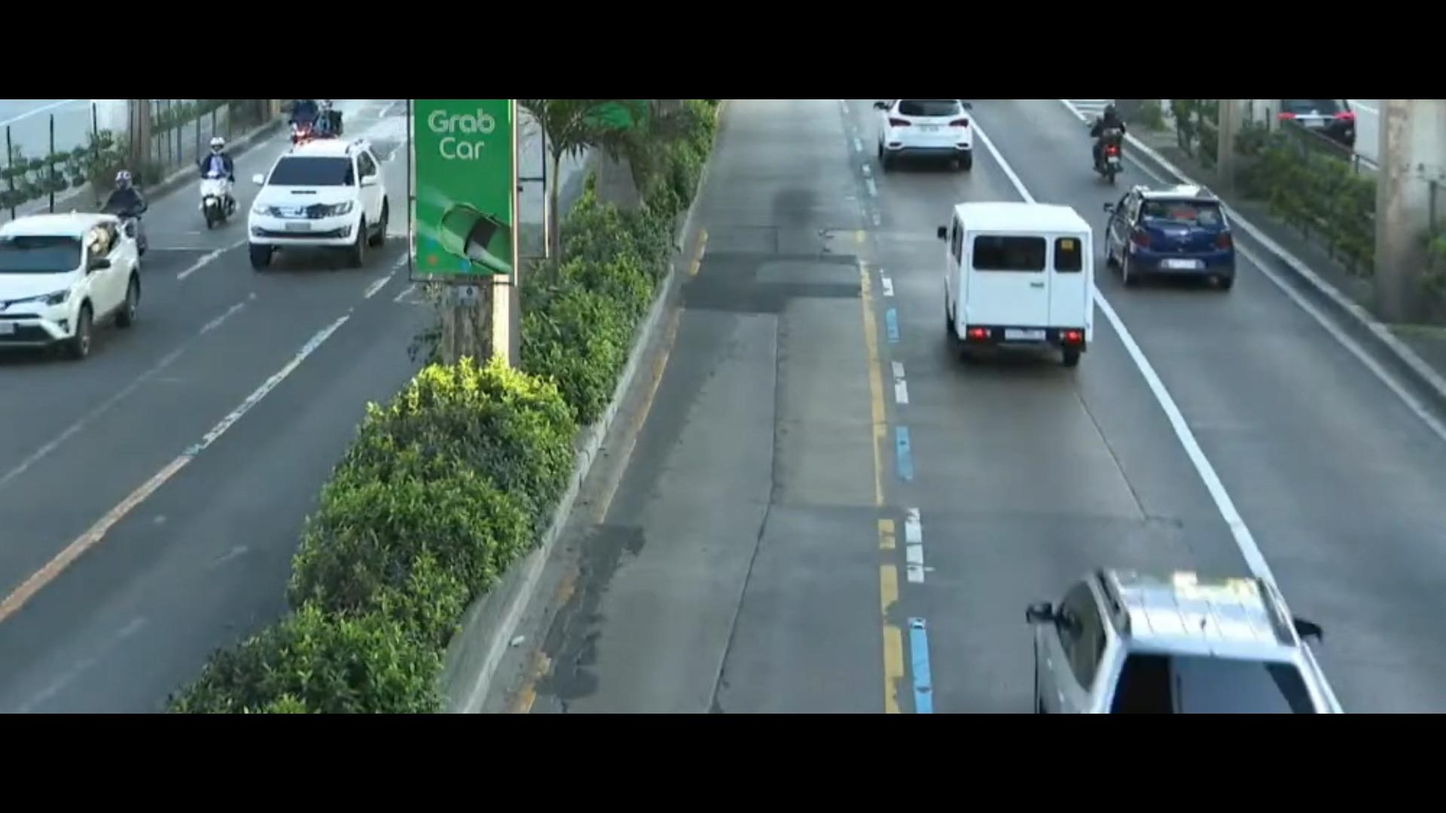Motorcycle: (185, 140, 251, 233), (1082, 104, 1151, 181), (106, 160, 147, 256), (275, 106, 324, 151)
Multicab: (923, 181, 1120, 381)
SUV: (968, 507, 1341, 718), (0, 207, 170, 374), (251, 142, 392, 271), (874, 96, 981, 175)
Sedan: (1104, 175, 1253, 300)
